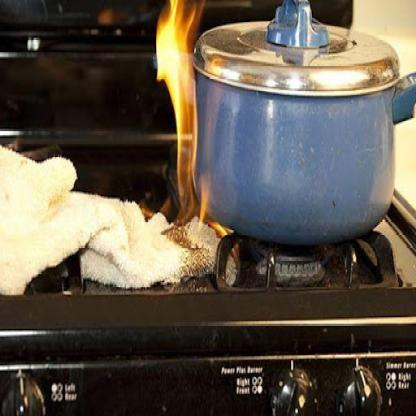fire: (152, 0, 234, 254)
